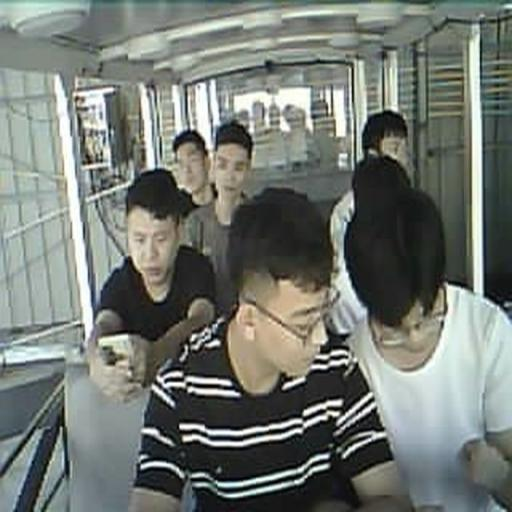persona: (128, 186, 406, 511), (342, 170, 512, 511), (88, 168, 218, 403), (327, 109, 413, 338), (182, 120, 256, 314), (332, 158, 412, 333), (172, 128, 217, 213)
